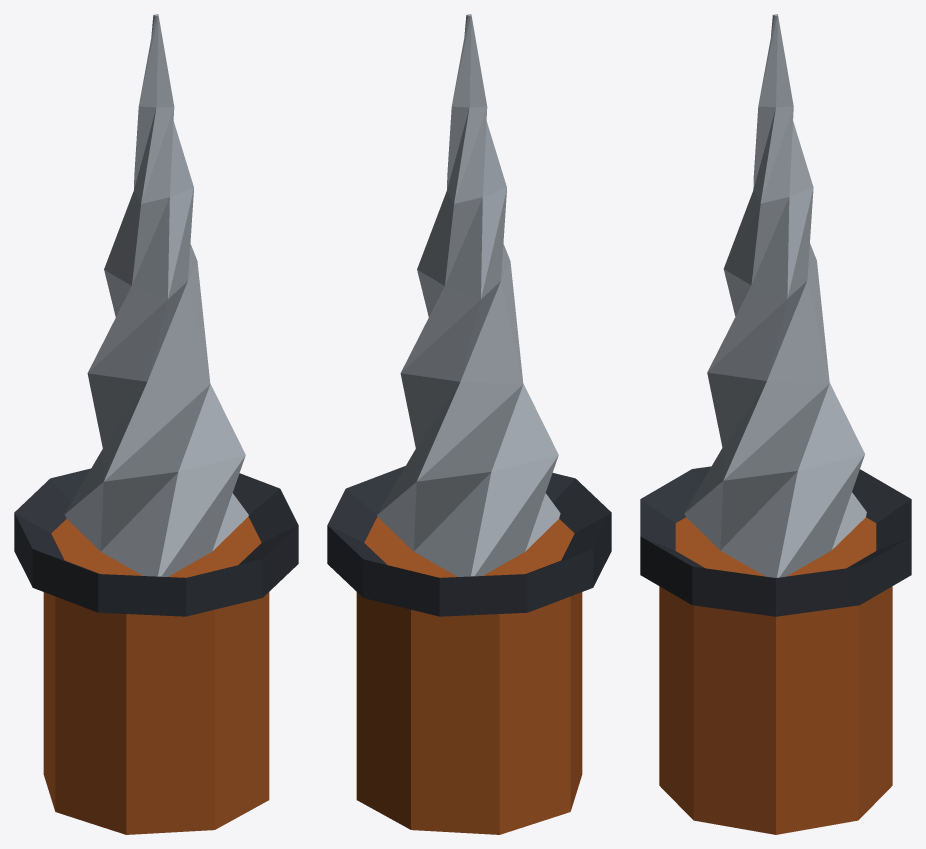
Rendered from dc_drill_arm.glb.
3 renders of one model, left to right at view 1: azimuth 30°, elevation 25°; view 2: azimuth 150°, elevation 25°; view 3: azimuth 270°, elevation 25°, orthographic.
Parts seen in each view (by area): view 1: part.dc_drill_arm; view 2: part.dc_drill_arm; view 3: part.dc_drill_arm.
Part boxes in pixels (bbox=[...]): part.dc_drill_arm: bbox=[14, 14, 298, 834]; part.dc_drill_arm: bbox=[327, 14, 611, 834]; part.dc_drill_arm: bbox=[640, 14, 911, 834].
Size of the model in its own units: 0.208 by 0.62 by 0.1978.
